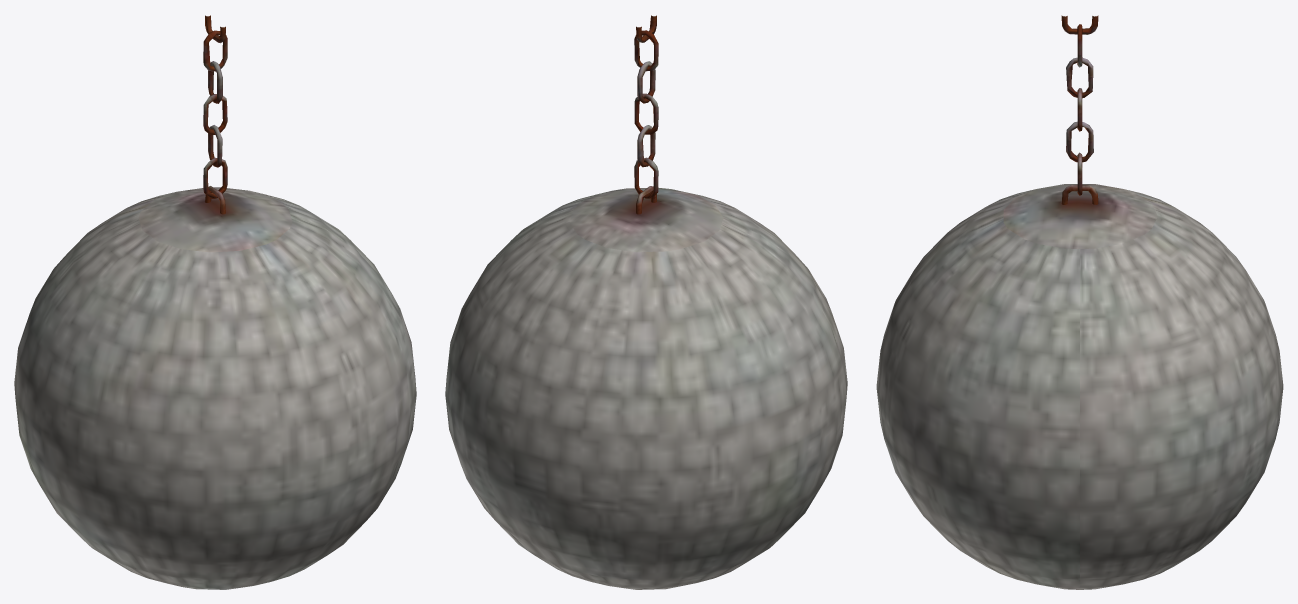
File: discoball.deployed.glb
The picture shows the model from 3 angles, left to right: view 1: azimuth 30°, elevation 25°; view 2: azimuth 150°, elevation 25°; view 3: azimuth 270°, elevation 25°; orthographic projection.
Visible parts, largest first — view 1: DiscoBall_LOD0; view 2: DiscoBall_LOD0; view 3: DiscoBall_LOD0.
Boxes of the visible parts, bbox=[...] form: DiscoBall_LOD0: bbox=[14, 15, 416, 589]; DiscoBall_LOD0: bbox=[445, 15, 847, 589]; DiscoBall_LOD0: bbox=[876, 15, 1283, 589].
Bounding box in the file's own units: 0.5791 × 0.8726 × 0.5791.
1 material, 1 textured.
